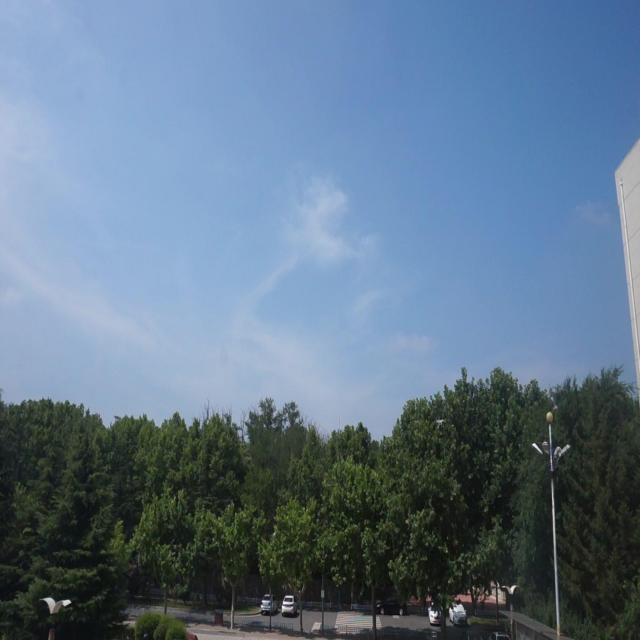UAV: (436, 420, 445, 426)
